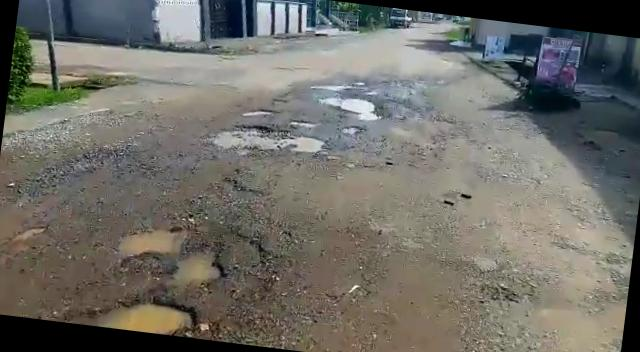pothole: (114, 222, 230, 293), (100, 292, 200, 338), (211, 122, 326, 161), (319, 90, 390, 120), (245, 105, 280, 118), (289, 118, 321, 130), (338, 124, 365, 136)
